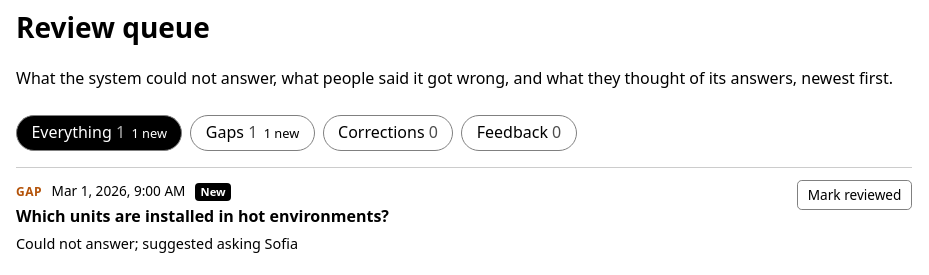
Test: the review page › reads an empty kind as empty
Click the button "Feedback 0" at (519, 133), box [461, 115, 577, 151]
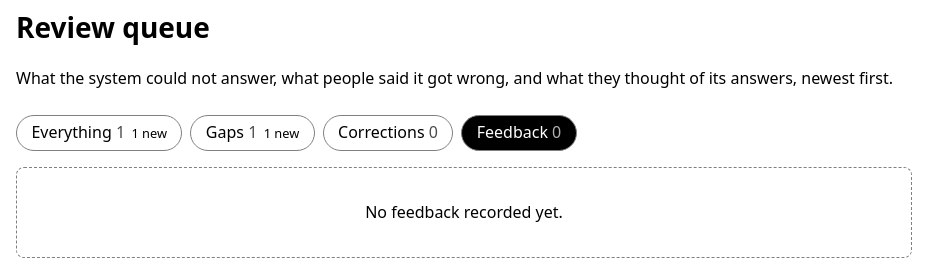
Now the text "No feedback recorded yet." is shown, box [16, 167, 912, 258]
